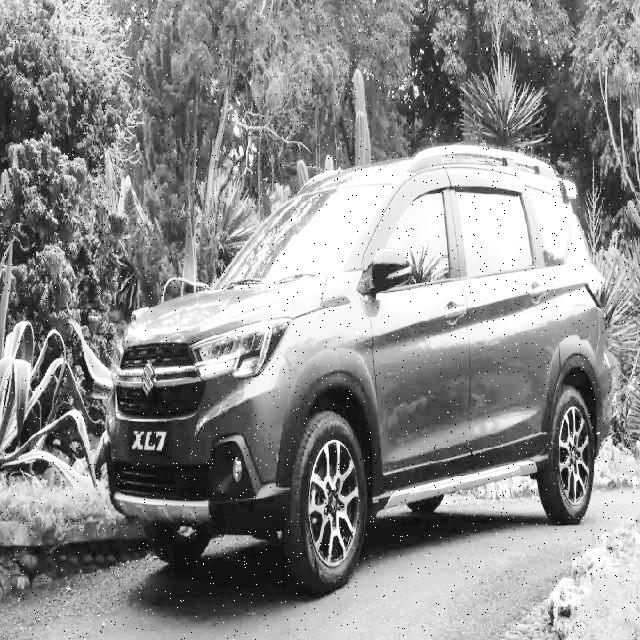Car: (105, 62, 619, 608)
